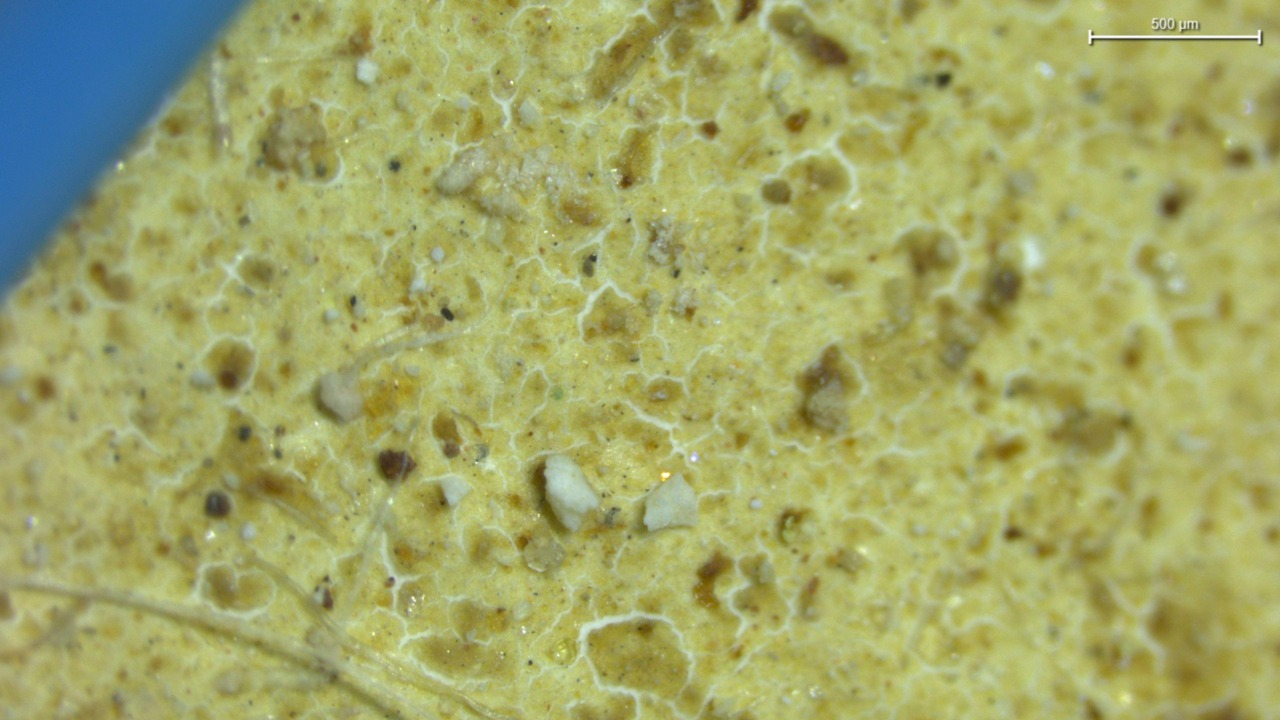microplastic_fragment: (544, 454, 600, 531), (644, 474, 698, 531), (317, 373, 361, 423), (439, 475, 471, 507), (356, 57, 379, 84)
